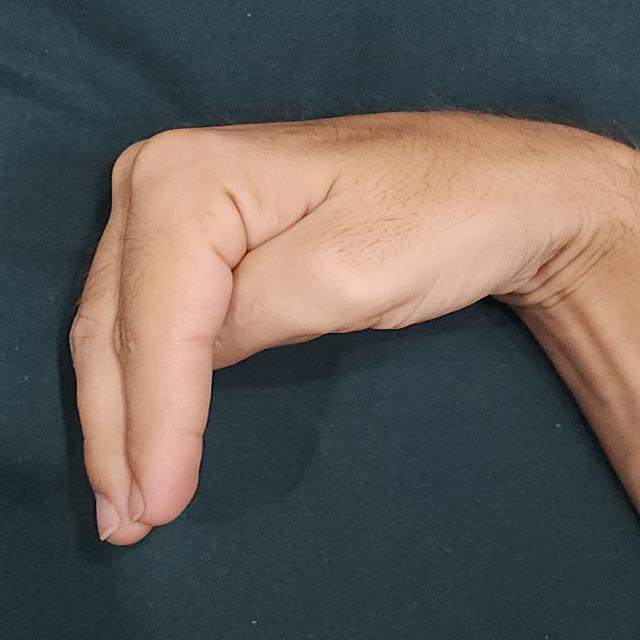ڈ: (66, 107, 640, 568)
